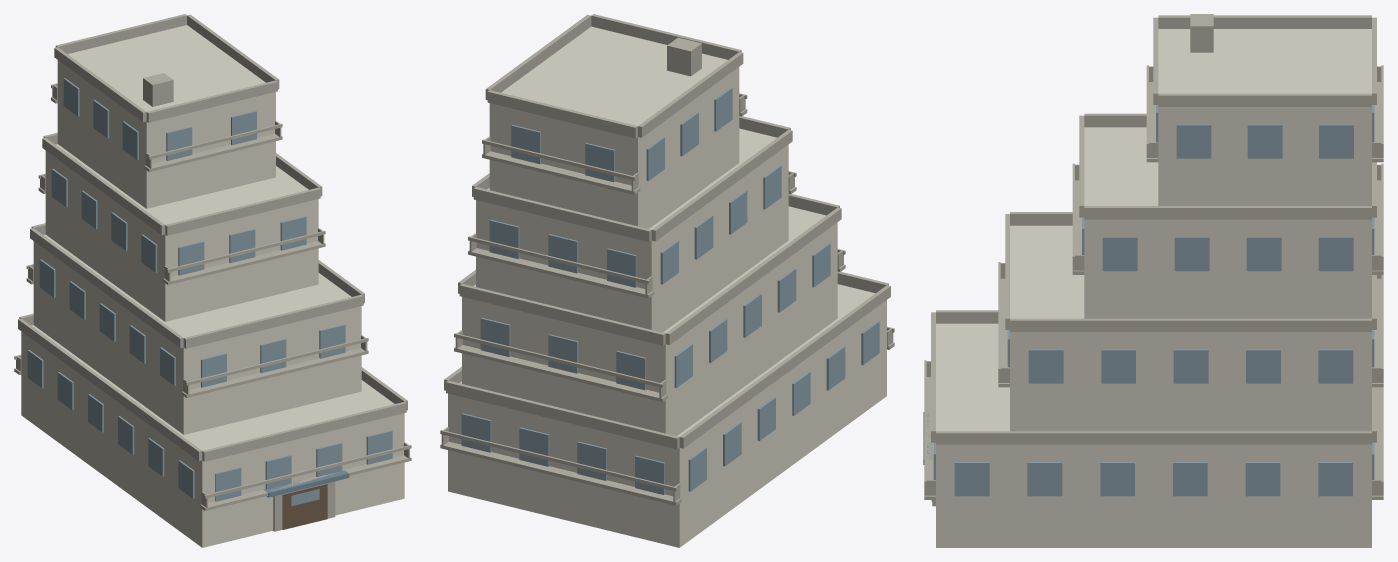
File: residential_2x3_terraces.glb
The picture shows the model from 3 angles, left to right: view 1: azimuth 30°, elevation 25°; view 2: azimuth 150°, elevation 25°; view 3: azimuth 270°, elevation 25°; orthographic projection. The views are drawn at different scales.
Visible parts, largest first — view 1: residential_2x3_terraces_0; view 2: residential_2x3_terraces_0; view 3: residential_2x3_terraces_0.
Boxes of the visible parts, left/top/right/bottom form: residential_2x3_terraces_0: left=14, top=14, right=411, bottom=547; residential_2x3_terraces_0: left=440, top=14, right=894, bottom=547; residential_2x3_terraces_0: left=923, top=14, right=1383, bottom=547.
Bounding box in the file's own units: 15 × 25.5 × 23.75.
